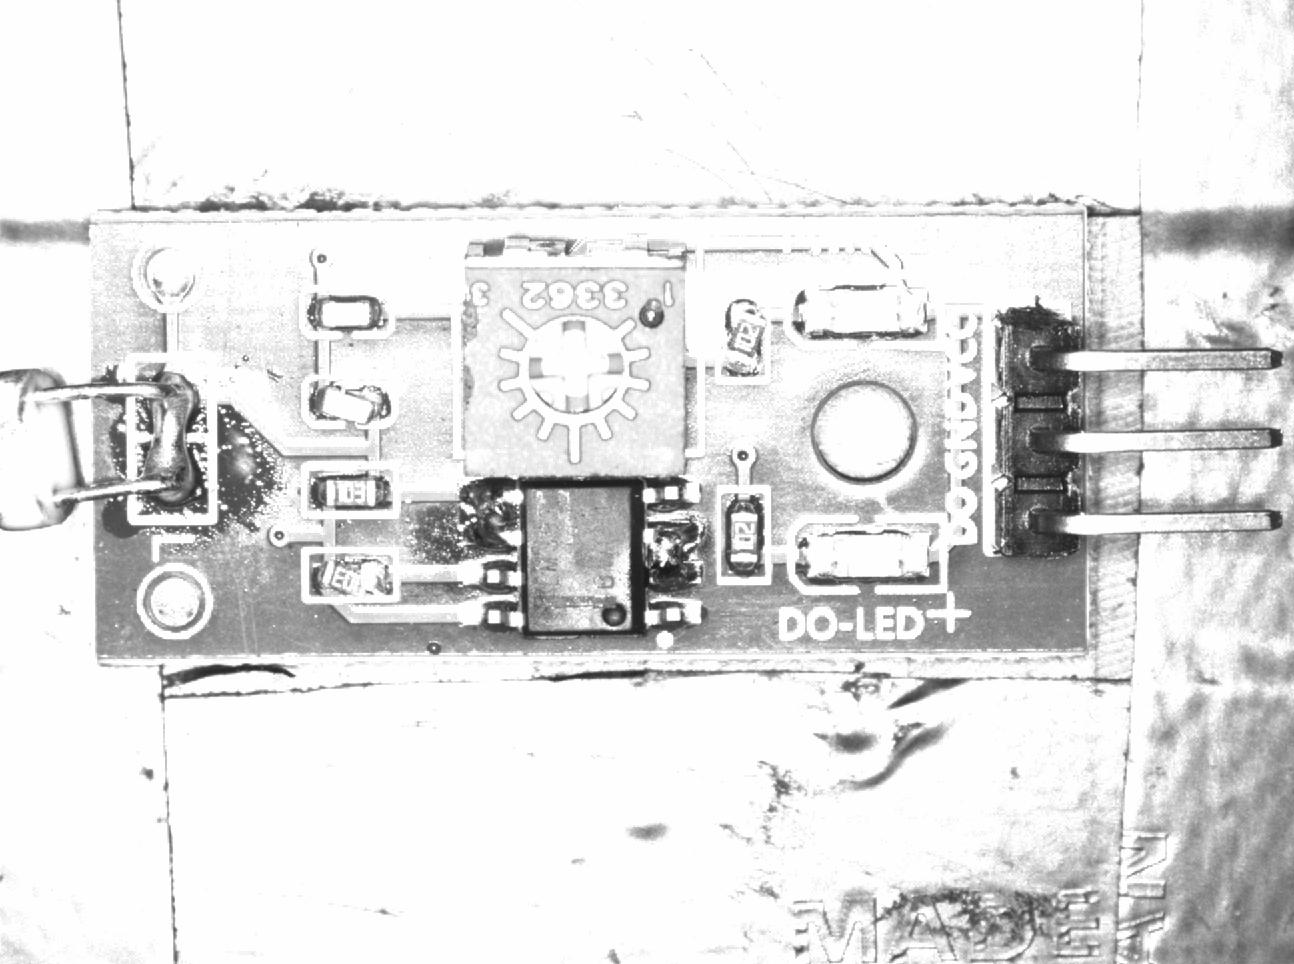bridge: (125, 351, 215, 521), (448, 469, 523, 560), (641, 513, 704, 591)
lifted: (300, 548, 400, 605), (299, 376, 400, 427), (715, 294, 771, 382)
ok: (304, 464, 396, 515), (720, 484, 766, 580), (301, 289, 392, 337)
